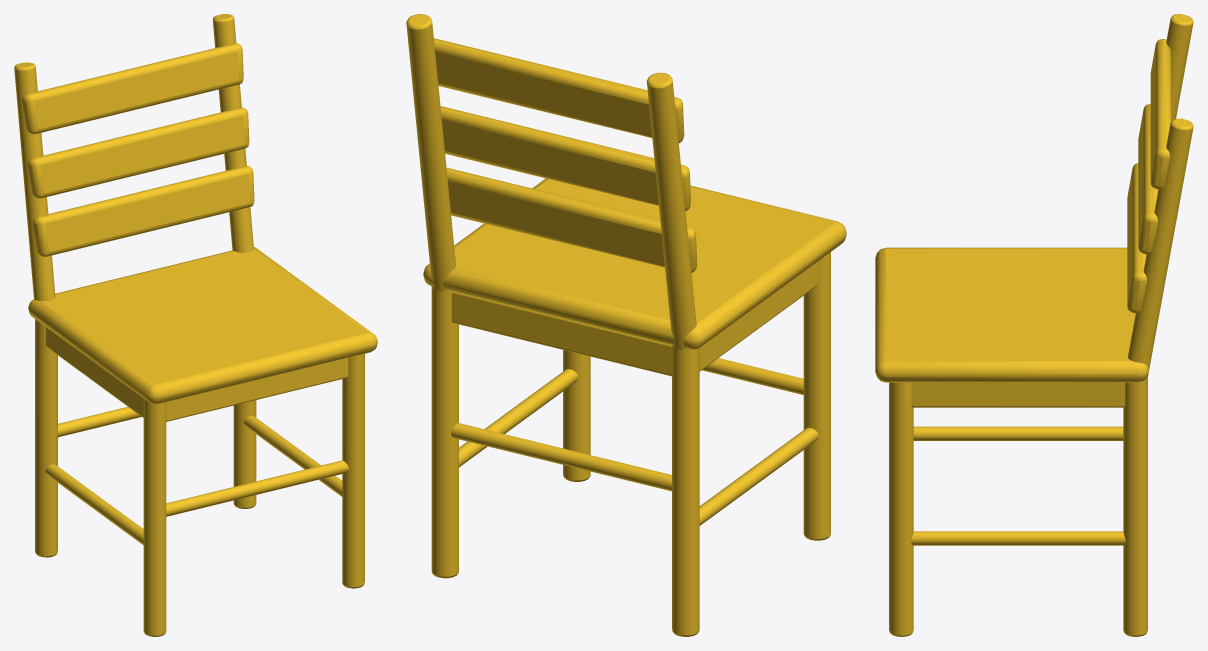
The model's file is plastic_chair.glb.
3 renders of one model, left to right at view 1: azimuth 30°, elevation 25°; view 2: azimuth 150°, elevation 25°; view 3: azimuth 270°, elevation 25°, orthographic. The views are drawn at different scales.
Visible parts, largest first — view 1: plastic_yellow; view 2: plastic_yellow; view 3: plastic_yellow.
Part boxes in pixels (box(x1,y1,x2,y2)): plastic_yellow: box(14, 14, 377, 636); plastic_yellow: box(406, 14, 846, 636); plastic_yellow: box(875, 14, 1193, 636).
Size of the model in its own units: 0.44 by 0.8673 by 0.4891.
